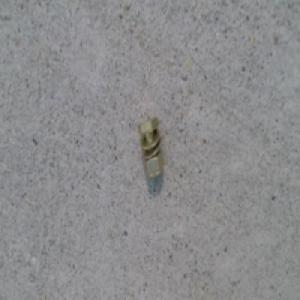BoltNutSet: (139, 116, 165, 180)
